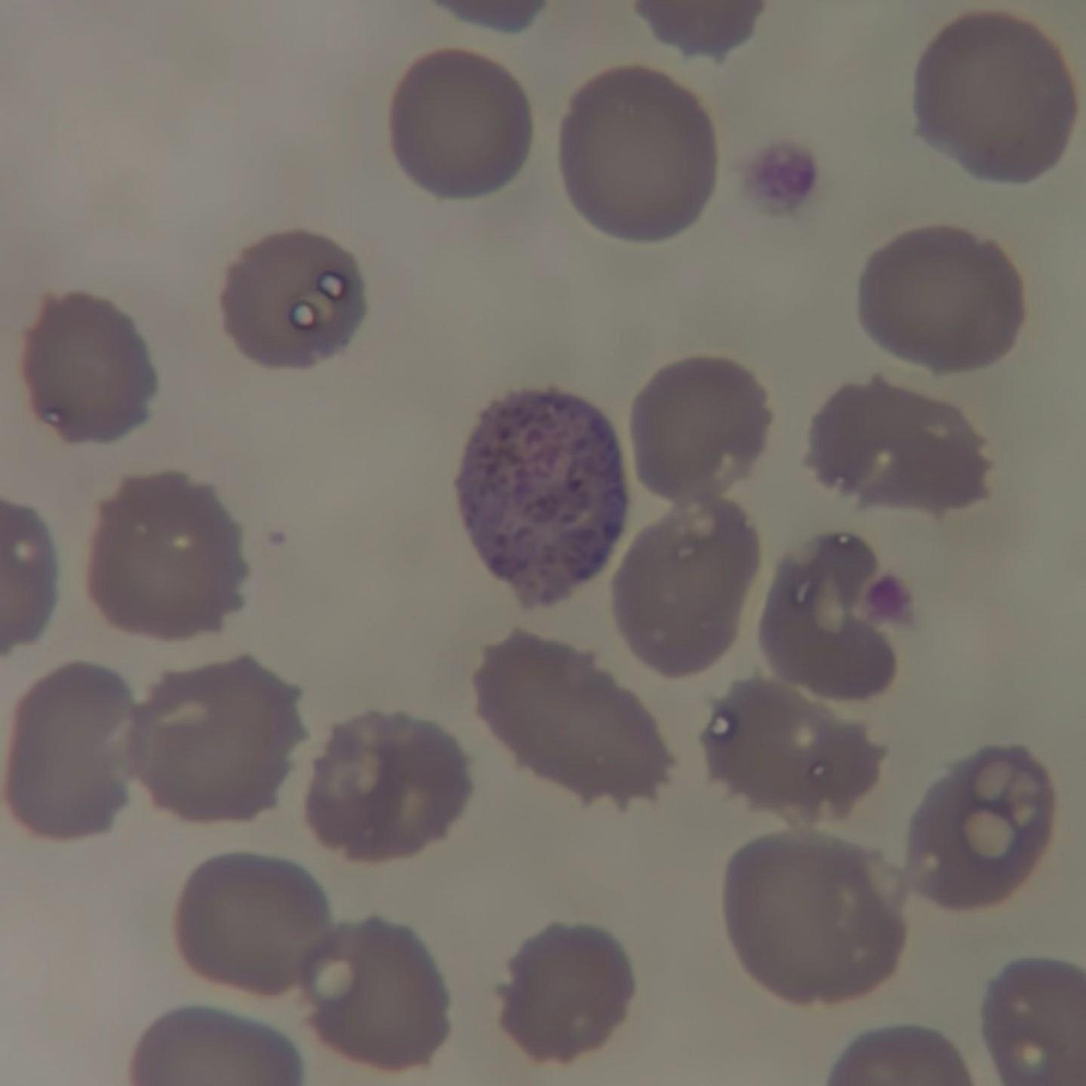Infected: (458, 383, 627, 612)
Uninfected: (473, 625, 671, 808), (730, 826, 909, 1001), (116, 657, 293, 825), (88, 464, 250, 642), (916, 11, 1080, 186), (556, 64, 716, 239), (704, 667, 887, 818), (906, 745, 1063, 912), (307, 705, 471, 863), (616, 494, 756, 676), (805, 378, 993, 503), (855, 230, 1025, 368), (20, 288, 163, 446), (392, 46, 537, 201), (176, 851, 332, 993), (13, 665, 139, 840), (765, 529, 897, 696), (307, 917, 451, 1070), (226, 227, 371, 377), (493, 914, 639, 1062), (631, 353, 766, 498)
